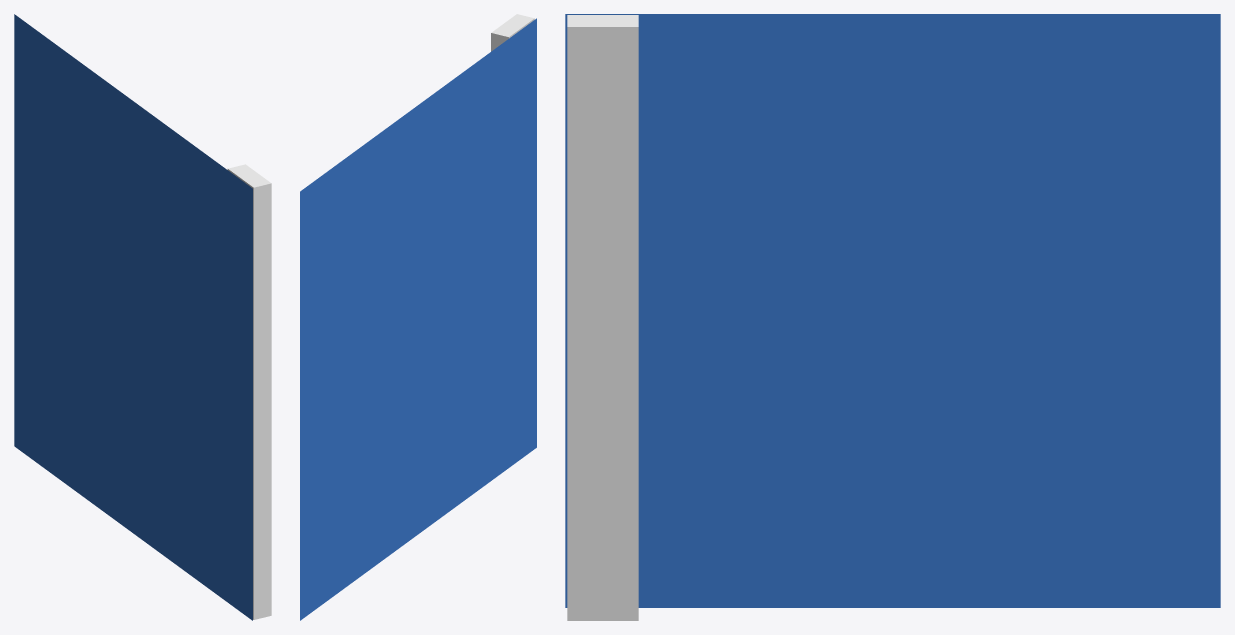
The model's file is binnenmuren1.fbx.
The picture shows the model from 3 angles, left to right: view 1: azimuth 30°, elevation 25°; view 2: azimuth 150°, elevation 25°; view 3: azimuth 270°, elevation 25°; orthographic projection. The views are drawn at different scales.
Visible parts, largest first — view 1: Plane, Cube; view 2: Plane, Cube; view 3: Plane, Cube.
Boxes of the visible parts, x1,y1,x2,y2 form: Plane: (14, 14, 252, 620); Cube: (227, 164, 271, 619); Plane: (300, 18, 536, 620); Cube: (491, 14, 534, 51); Plane: (565, 14, 1220, 607); Cube: (567, 15, 638, 620).
Bounding box in the file's own units: 9.4 × 200 × 200.
